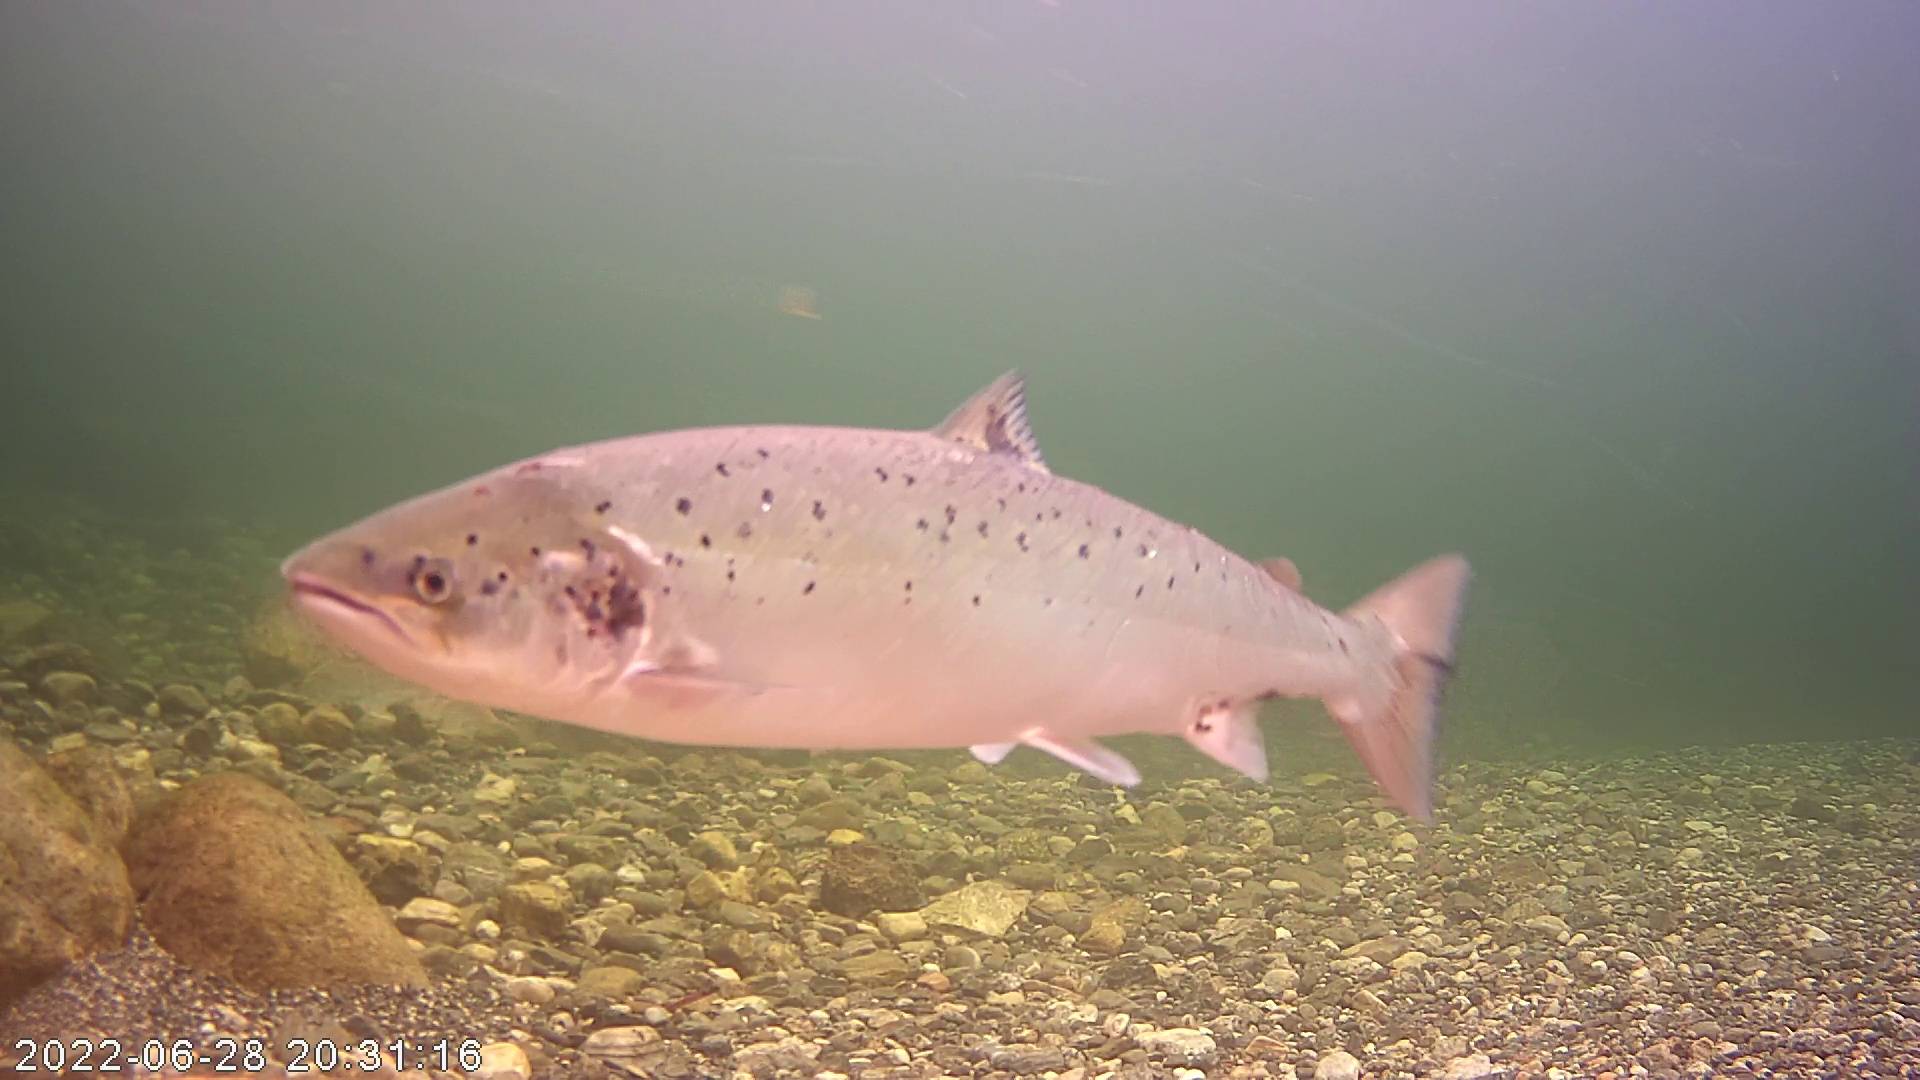salmon: (272, 361, 1472, 835)
